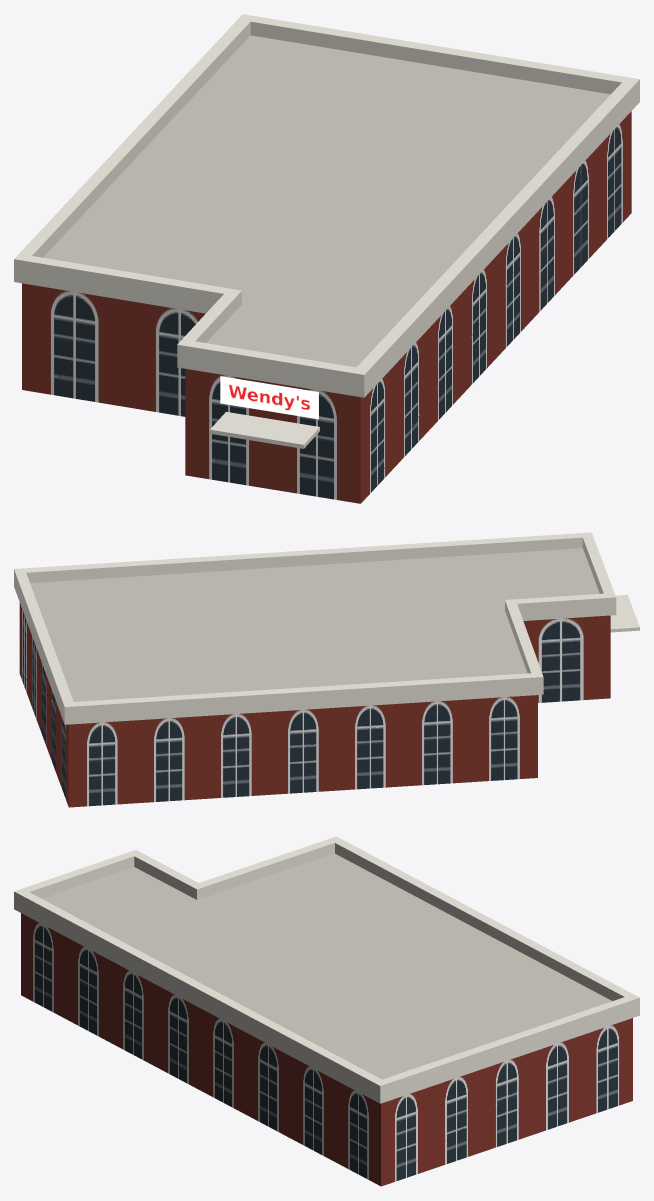
The model's file is wendys_pb.glb.
The picture shows the model from 3 angles, top to bottom: view 1: azimuth 30°, elevation 25°; view 2: azimuth 150°, elevation 25°; view 3: azimuth 270°, elevation 25°; orthographic projection. The views are drawn at different scales.
Visible parts, largest first — view 1: wendys_pb_lod0; view 2: wendys_pb_lod0; view 3: wendys_pb_lod0.
Boxes of the visible parts, x1,y1,x2,y2 form: wendys_pb_lod0: (14, 14, 639, 503); wendys_pb_lod0: (14, 532, 639, 807); wendys_pb_lod0: (14, 836, 639, 1186).
Size of what is drawn, in the model's own units: 30 by 5.8 by 31.8.
5 materials, 2 textured.
